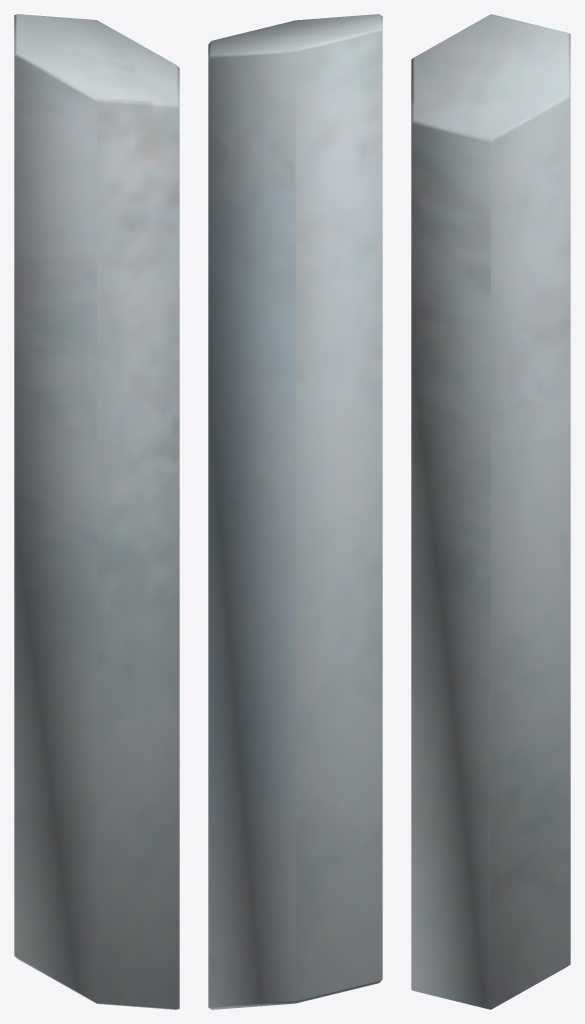
File: P_RockHexic_Piece09.obj
3 views of the same model, side by side, from view 1: azimuth 30°, elevation 25°; view 2: azimuth 150°, elevation 25°; view 3: azimuth 270°, elevation 25° (orthographic). The views are drawn at different scales.
Size of the model in its own units: 3.6 by 19.94 by 3.12.
